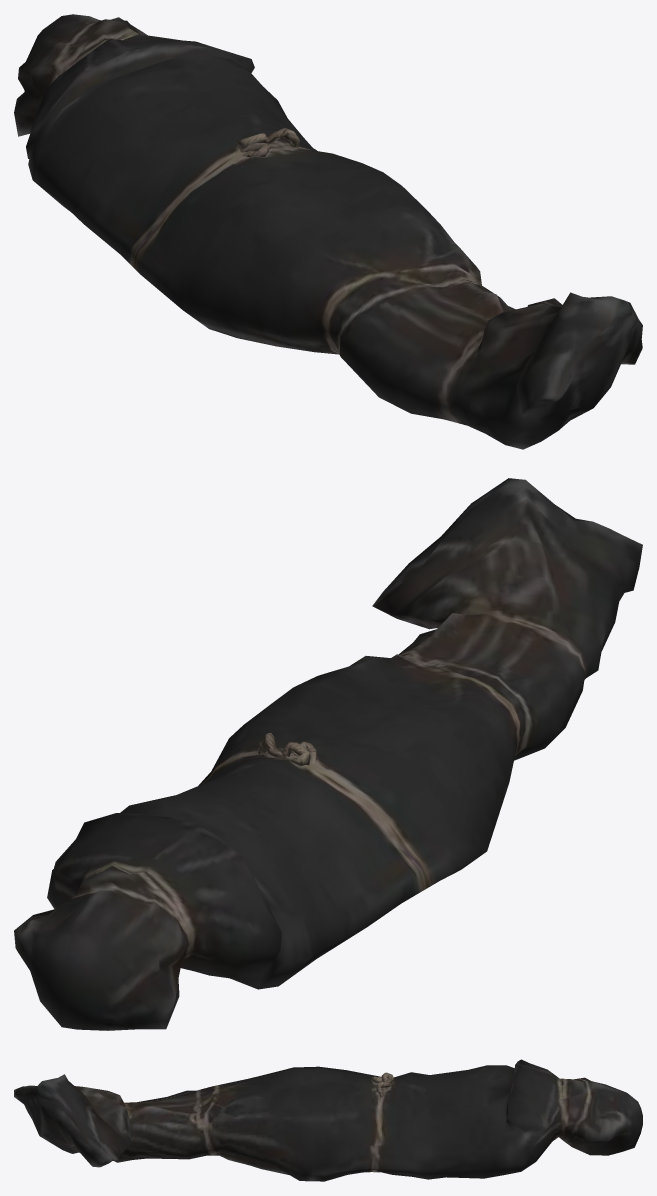
The model's file is bodybags_02.glb.
3 renders of one model, top to bottom at view 1: azimuth 30°, elevation 25°; view 2: azimuth 150°, elevation 25°; view 3: azimuth 270°, elevation 25°, orthographic. The views are drawn at different scales.
Parts seen in each view (by area): view 1: bodybags_02; view 2: bodybags_02; view 3: bodybags_02.
Boxes of the visible parts, bbox=[...] form: bodybags_02: bbox=[14, 14, 642, 449]; bodybags_02: bbox=[14, 478, 642, 1030]; bodybags_02: bbox=[14, 1059, 642, 1181].
Bounding box in the file's own units: 0.6821 × 0.3889 × 2.2.
1 material, 1 textured.
